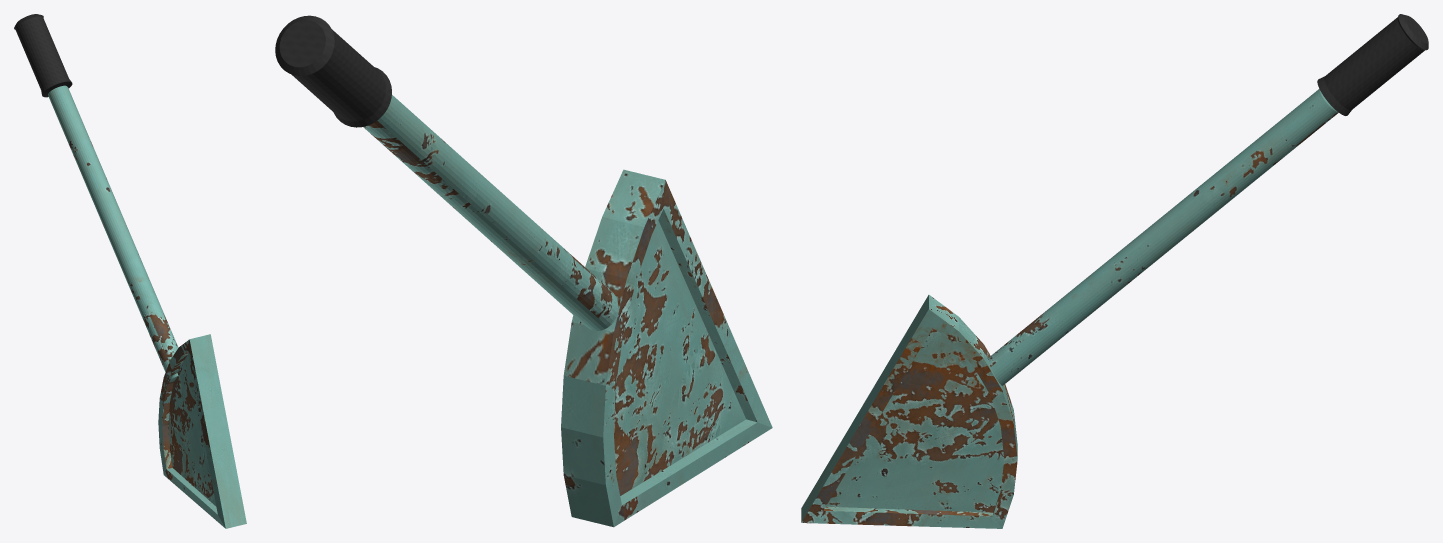
The model's file is Lever.fbx.
The picture shows the model from 3 angles, left to right: view 1: azimuth 30°, elevation 25°; view 2: azimuth 150°, elevation 25°; view 3: azimuth 270°, elevation 25°; orthographic projection. The views are drawn at different scales.
Visible parts, largest first — view 1: Lever; view 2: Lever; view 3: Lever.
Boxes of the visible parts, x1,y1,x2,y2 form: Lever: [14, 14, 246, 528]; Lever: [275, 15, 772, 527]; Lever: [801, 14, 1428, 528].
Bounding box in the file's own units: 20.25 × 209 × 235.
